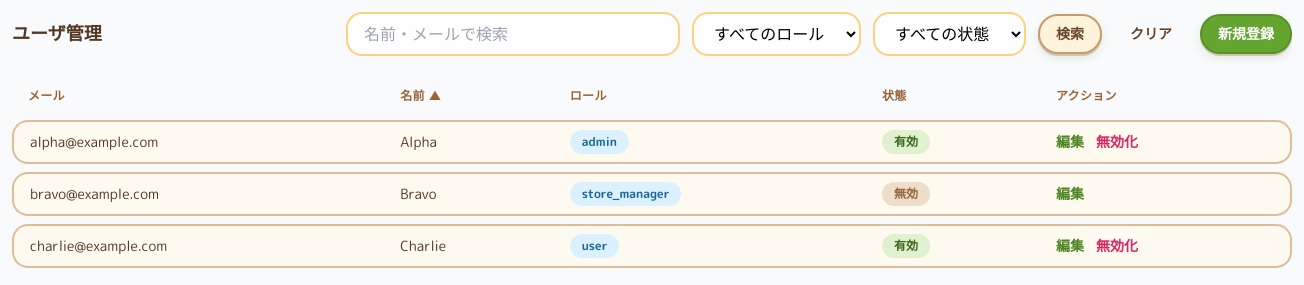
Test case: UserManagementPanel 検索・絞り込み・ソート › 検索ボタンを押すと名前またはメールの部分一致で絞り込まれる
The image size is (1304, 285).
Check: the text "Charlie" is shown, box [384,224,554,268]
Type "al" into the field with placeholder "名前・メールで検索" at (513, 34), box [346,12,680,56]
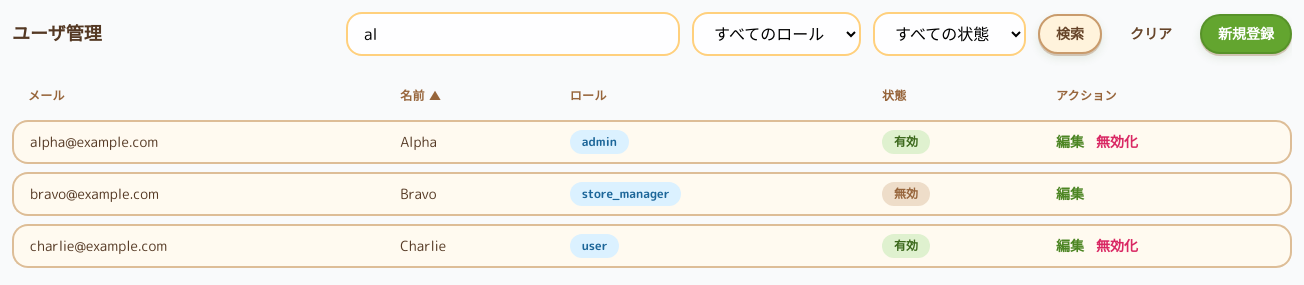
Click the button "検索" at (1070, 34), box [1038,14,1102,54]
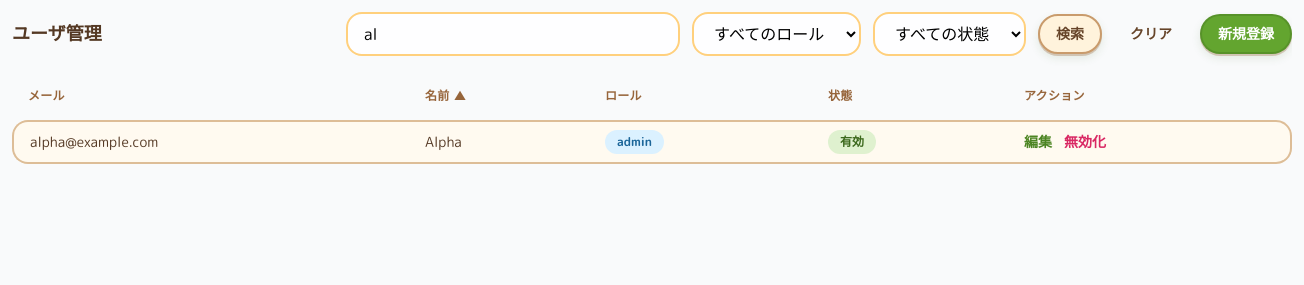
Check: the text "Alpha" is shown, box [409,120,589,164]
Check: the text "charlie" is gone
Check: the text "bravo" is gone
